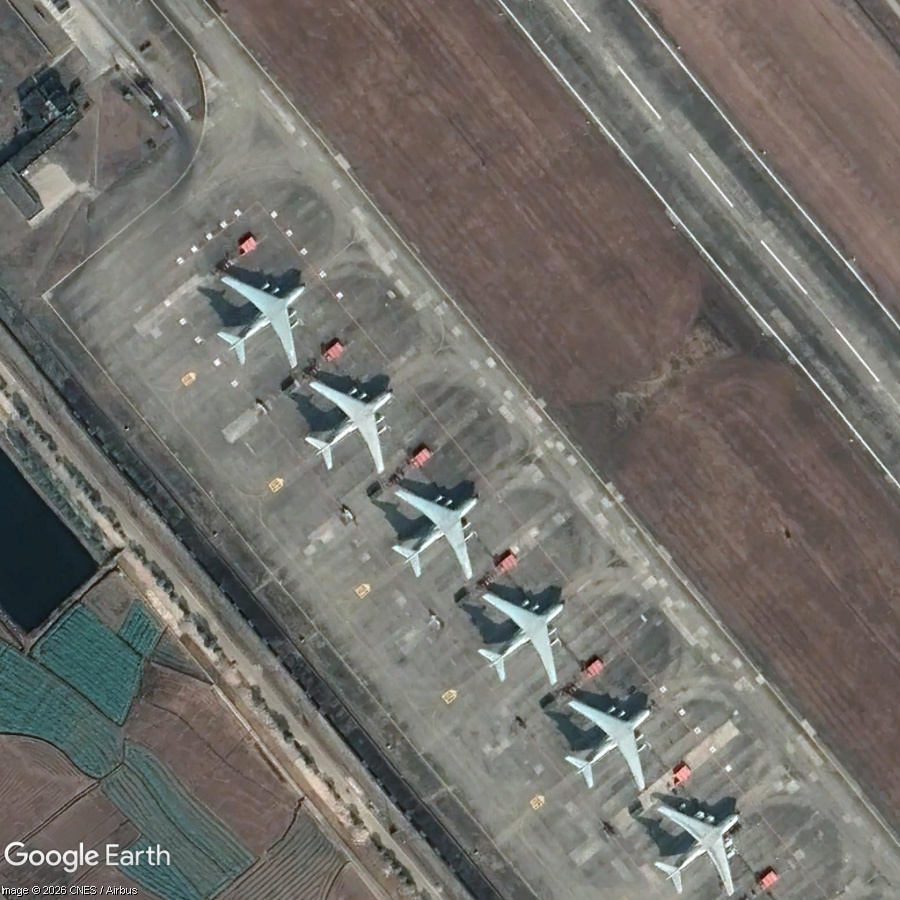Máy bay vận tải/Tiếp dầu: (271, 341, 433, 505), (184, 235, 346, 399), (532, 660, 692, 823), (359, 448, 519, 610), (445, 554, 604, 716), (622, 765, 782, 900)
